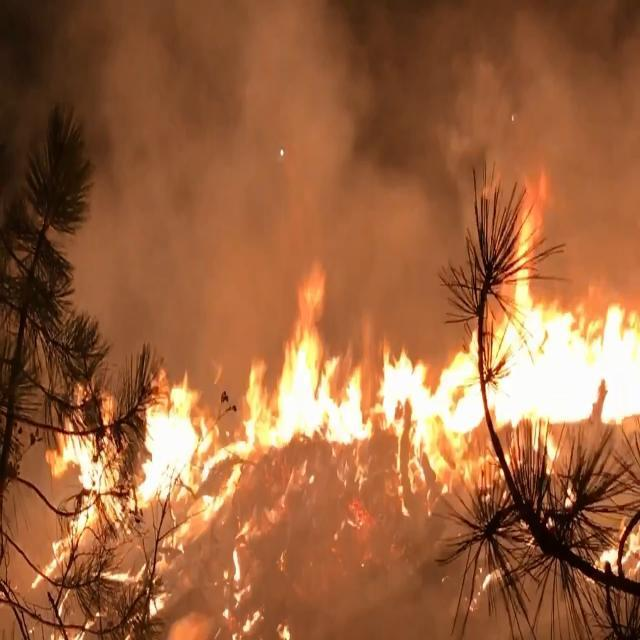Fire: (42, 168, 640, 640)
